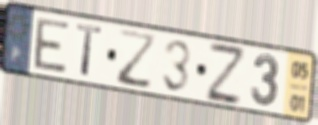3: (249, 52, 281, 109), (162, 39, 193, 94)
E: (33, 17, 72, 76)
T: (75, 21, 105, 80)
Z: (204, 39, 246, 108), (116, 27, 159, 92)
